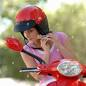helmets: (8, 3, 56, 38)
